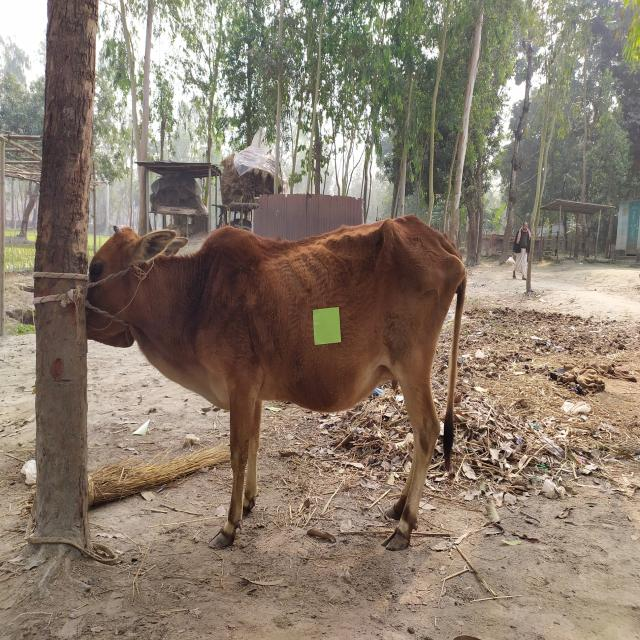badan_sapi: (199, 223, 455, 420)
sapi: (74, 213, 476, 555)
